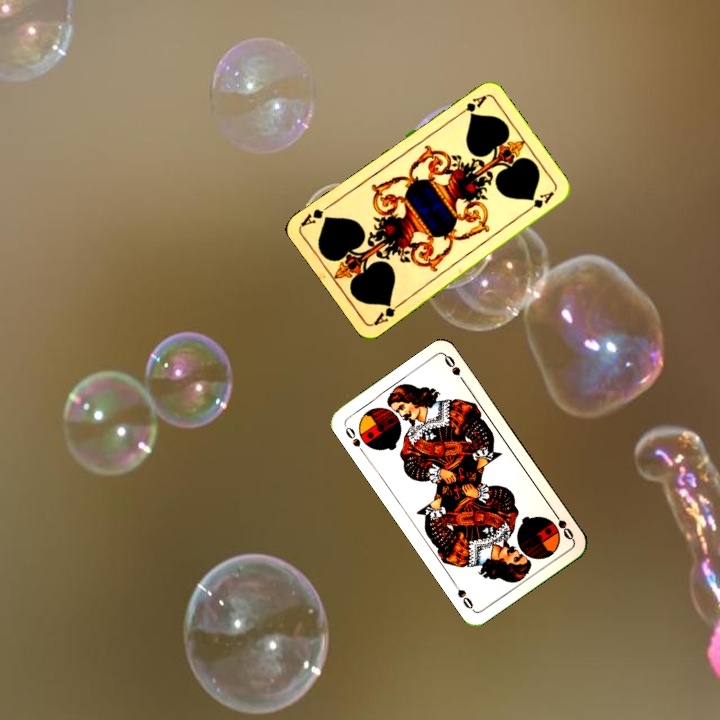GA: (369, 298, 405, 328), (452, 91, 489, 119)
SO: (548, 507, 576, 543), (340, 421, 368, 457)
